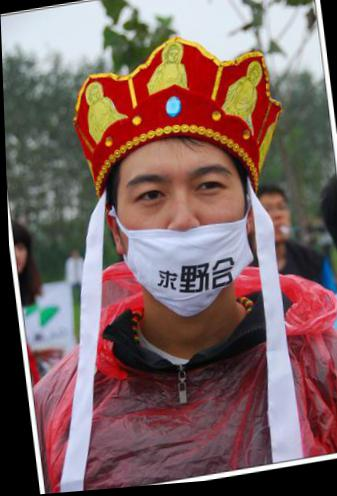NONE: (253, 202, 294, 248)
WRONG: (107, 145, 254, 309)
